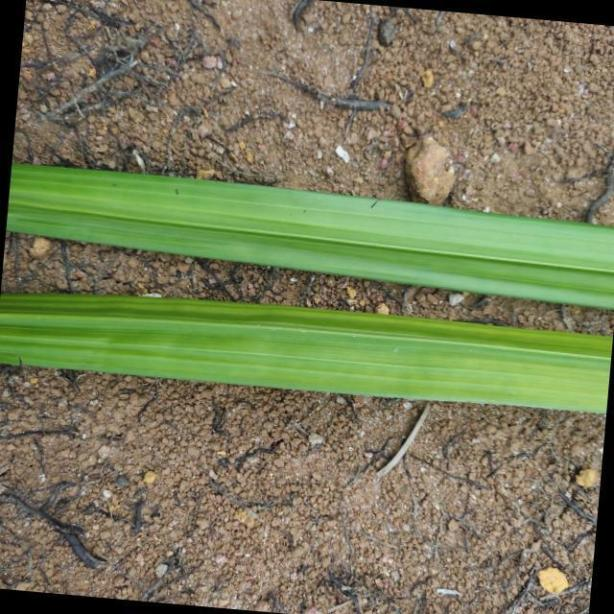nitrogen: (3, 158, 614, 305), (6, 286, 614, 411)
